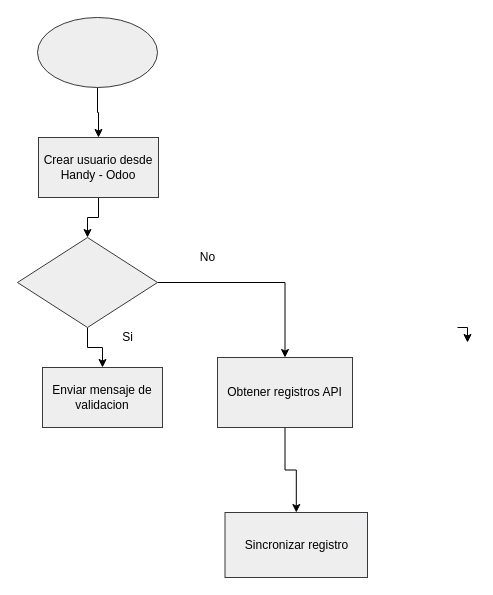
Some shapes in this 493 by 595 pixel diagram are drawn without their labels. Each missing label, with the box of its shape:
Inicio: (36, 16, 158, 88)
¿RFC es duplicado?: (16, 236, 158, 328)
